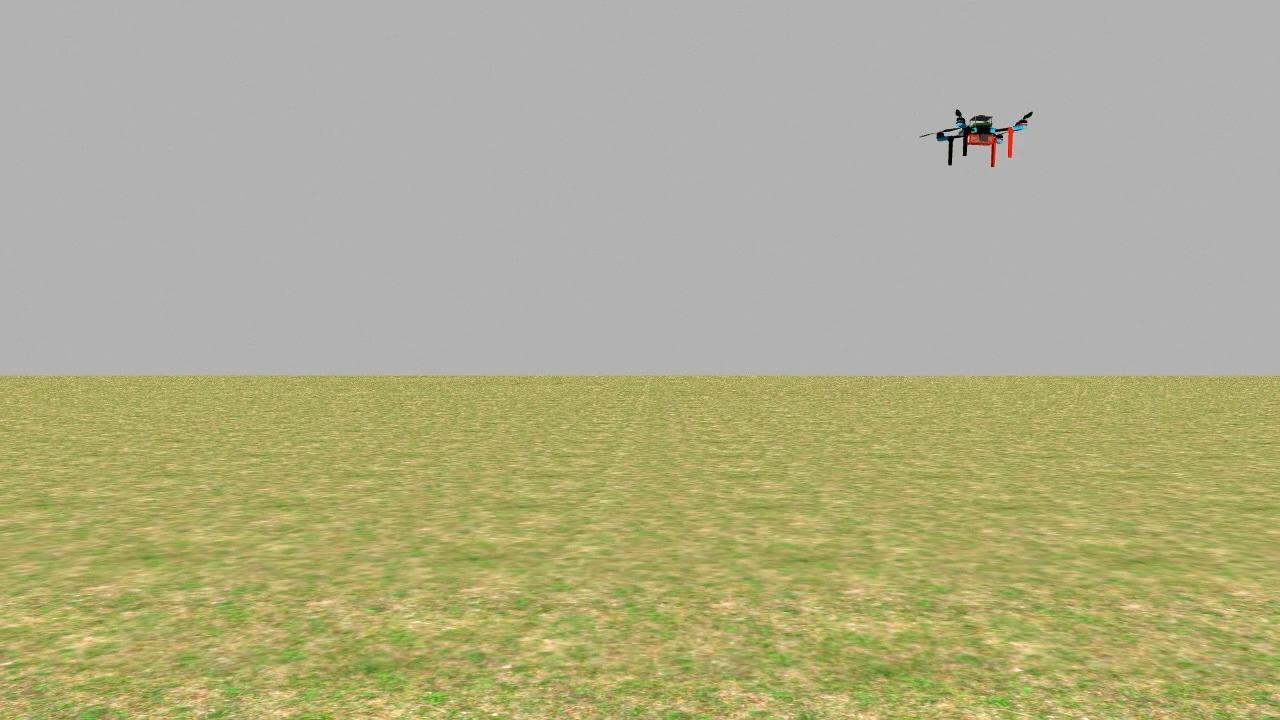UAV: (928, 106, 1034, 176)
